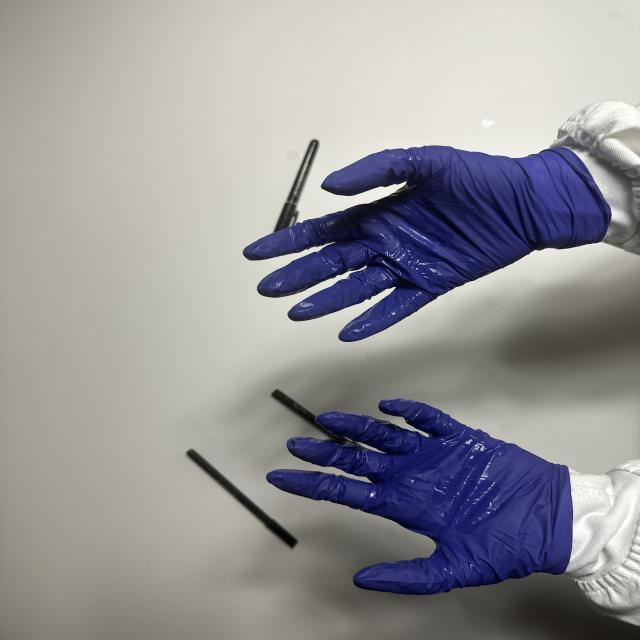gloves_contaminated: (243, 146, 611, 341), (267, 399, 573, 594)
